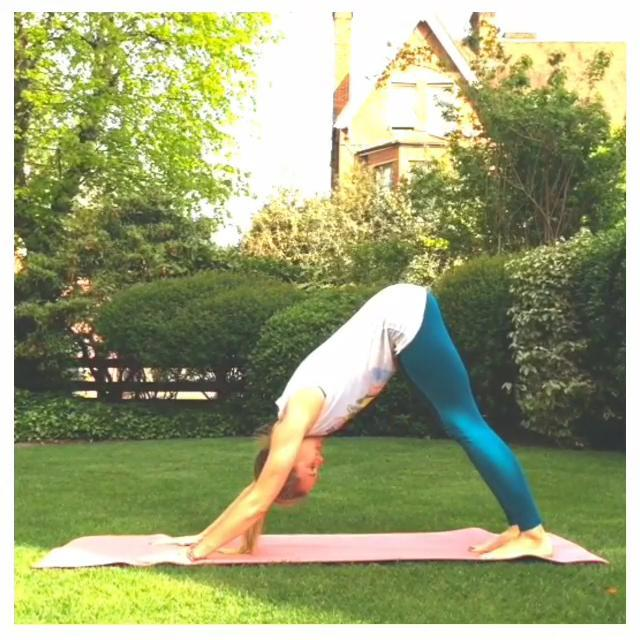Downward-Facing_Dog: (139, 271, 568, 568)
